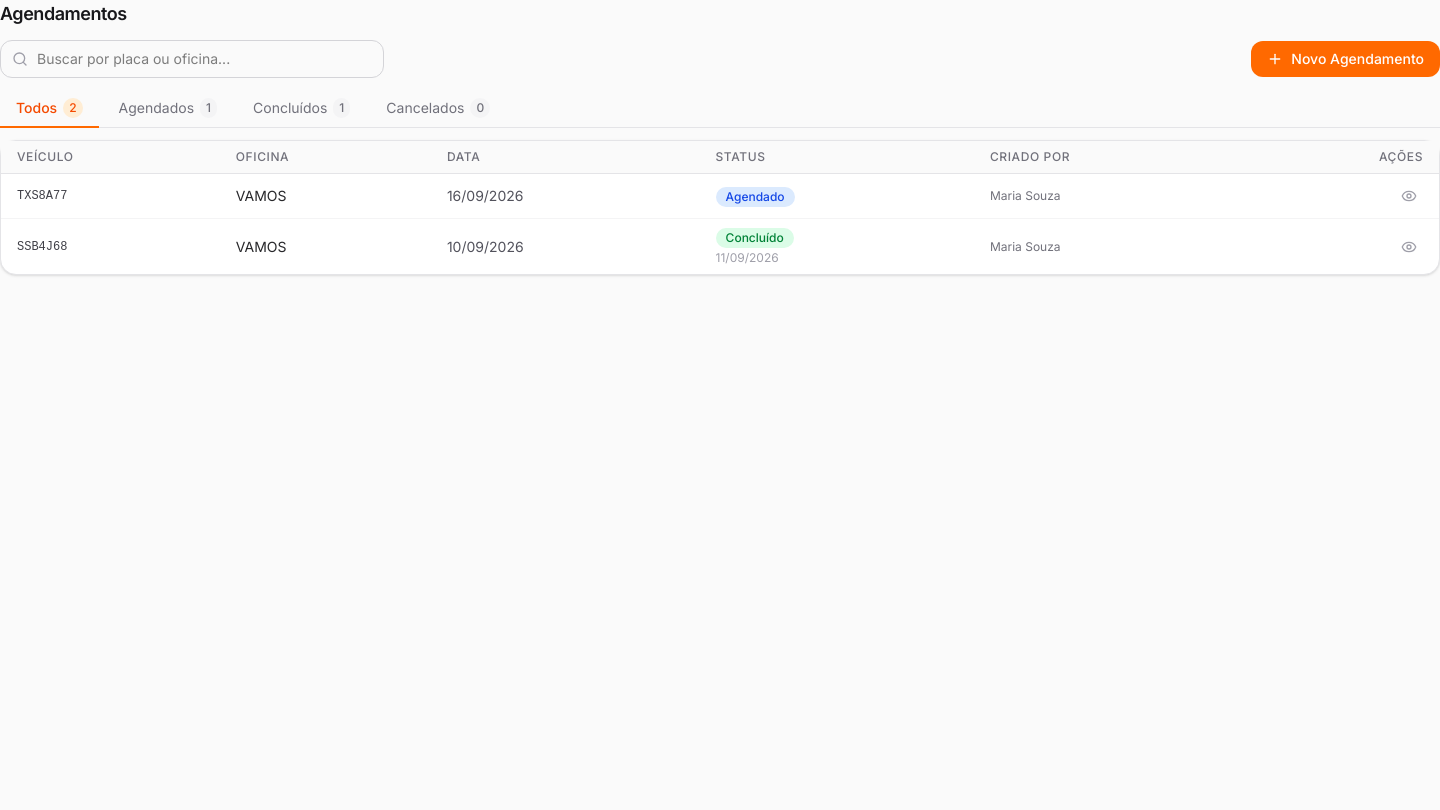
Test: WorkshopSchedules.actions › confirmar o cancelamento dispara o update e fecha o modal
The image size is (1440, 810).
Click the button named "Ver detalhes do agendamento" in the row of "TXS8A77" at (1409, 196), box [1395,182,1423,210]
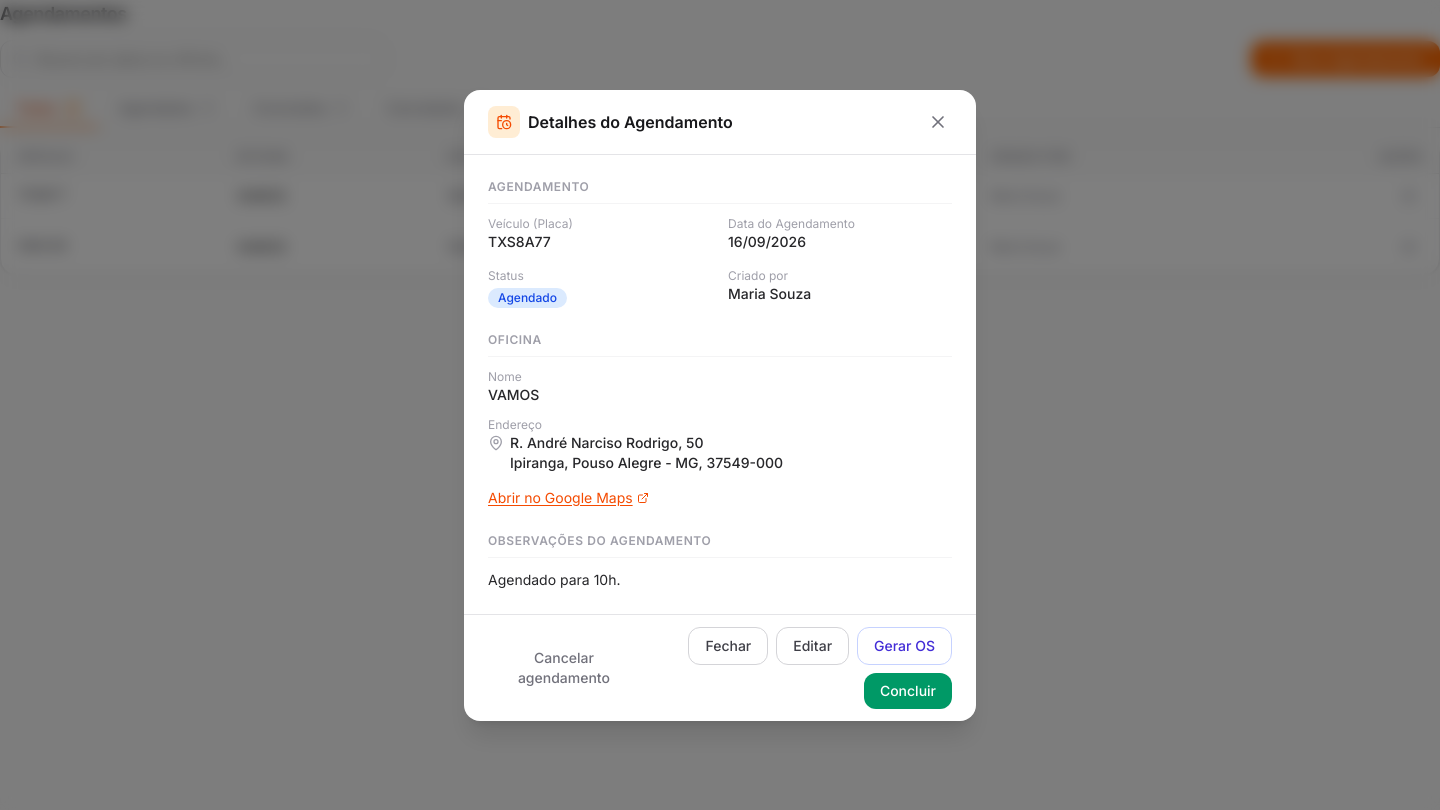
Expected: the button "Cancelar agendamento" is shown
Click the button "Cancelar agendamento" at (564, 668), box [488,640,640,696]
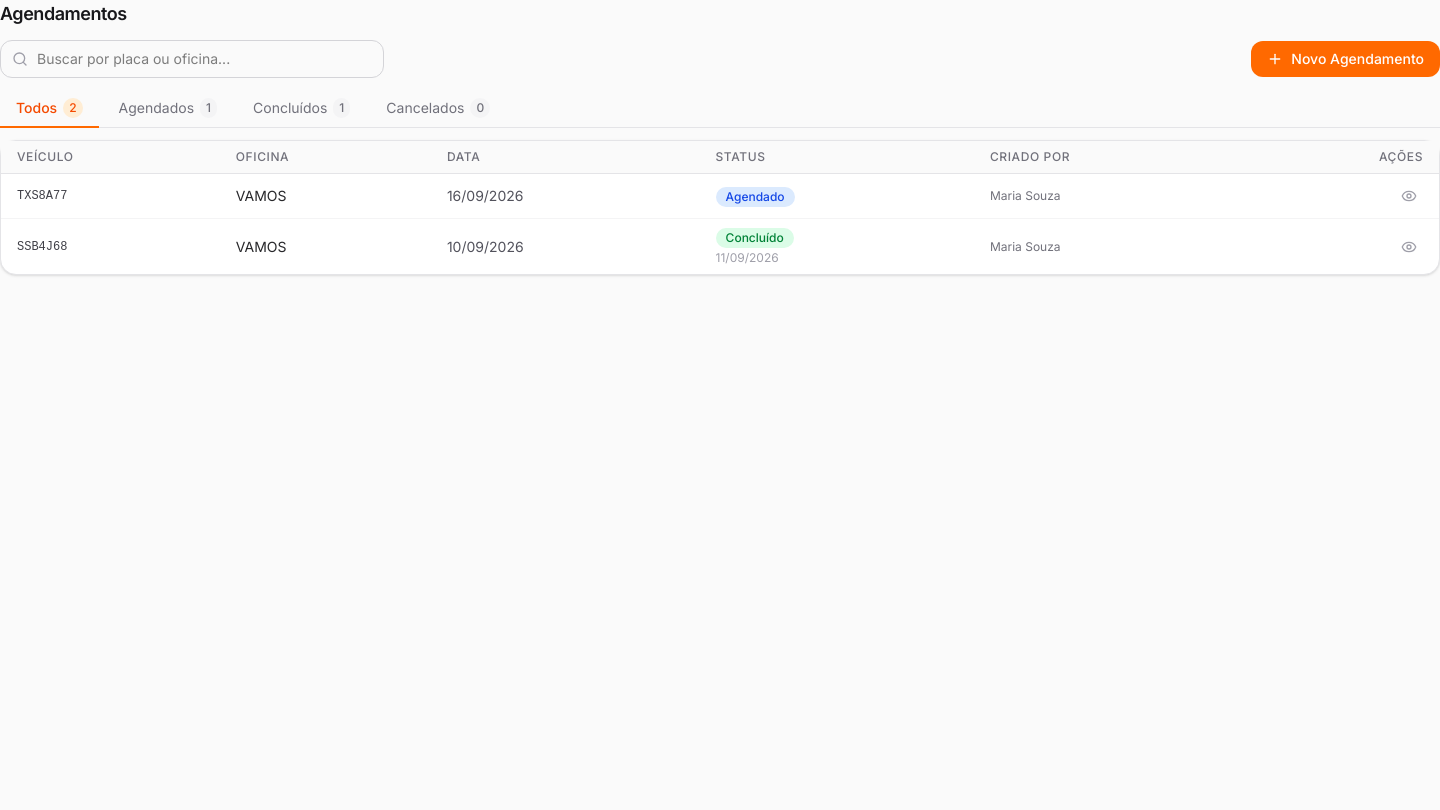
Expected: the text "Detalhes do Agendamento" is gone
